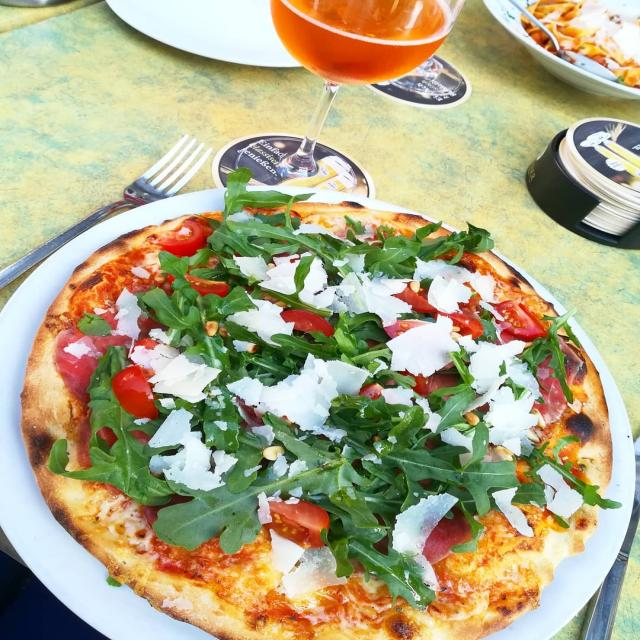pizza: (21, 176, 624, 640)
tomatoes: (263, 502, 332, 549), (109, 366, 160, 421), (492, 301, 548, 339), (278, 309, 336, 340), (160, 218, 208, 254), (168, 273, 230, 299), (394, 284, 443, 314), (436, 311, 484, 340), (384, 318, 436, 342), (394, 372, 429, 395), (353, 380, 388, 401)
